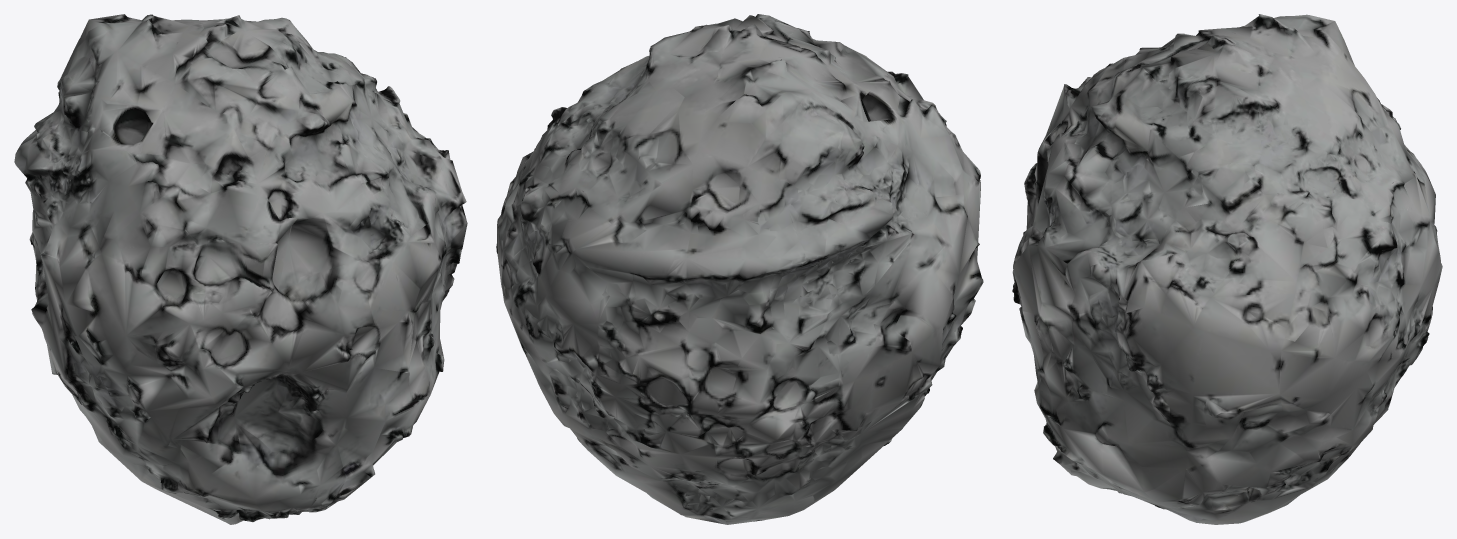
File: wild2-low.glb
The picture shows the model from 3 angles, left to right: view 1: azimuth 30°, elevation 25°; view 2: azimuth 150°, elevation 25°; view 3: azimuth 270°, elevation 25°; orthographic projection. The views are drawn at different scales.
Size of the model in its own units: 1.6 by 1.89 by 1.54.
1 material, 1 textured.
